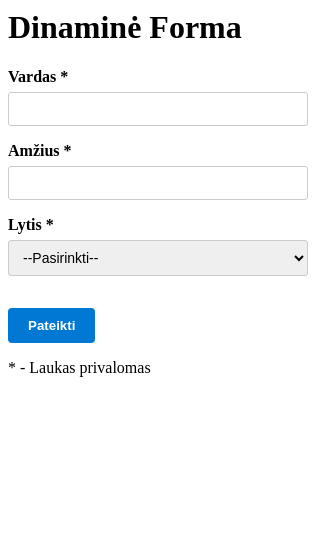
Test: DynamicForm - validation and conditions › Conditional visibility › should show Email when Age >= 18
Type "18" into the number field with id "age". click: coordinates (158, 183)
box: [8,166,308,200]
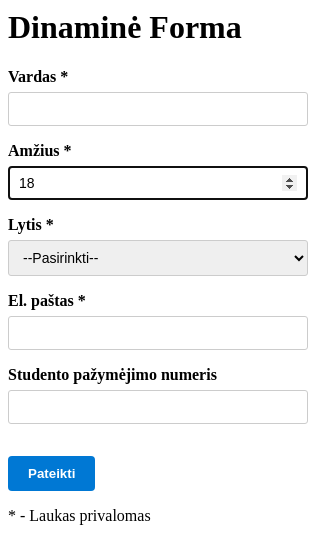
Now the field with id "email" is shown, box [8,316,308,350]
